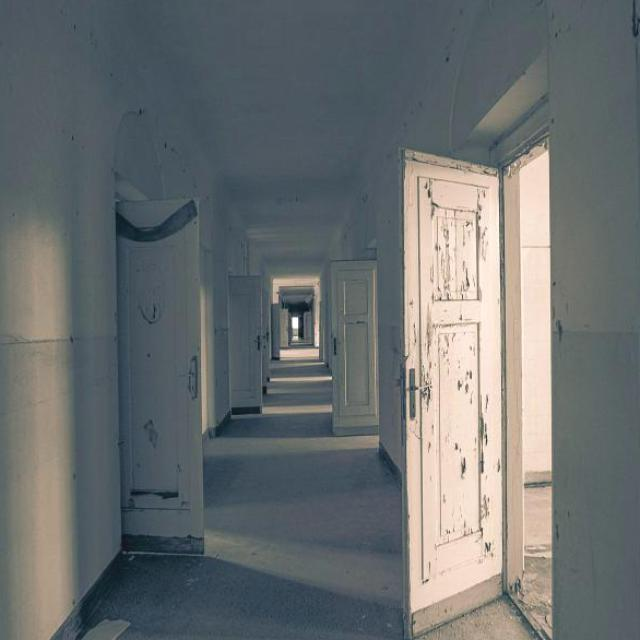door: (402, 148, 504, 634), (116, 198, 204, 554), (326, 256, 384, 432), (218, 261, 268, 416)
